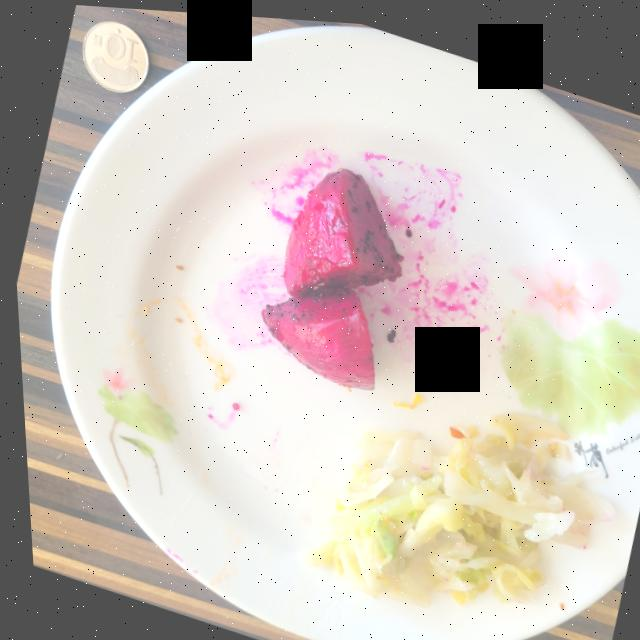cabbage: (300, 407, 606, 601)
coin: (81, 19, 147, 90)
